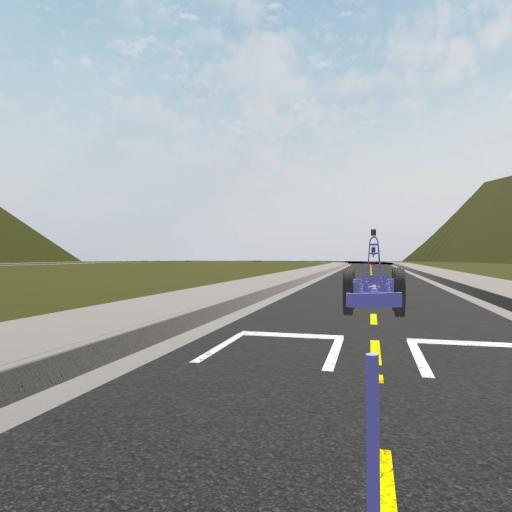ERP-42: (342, 228, 406, 318)
